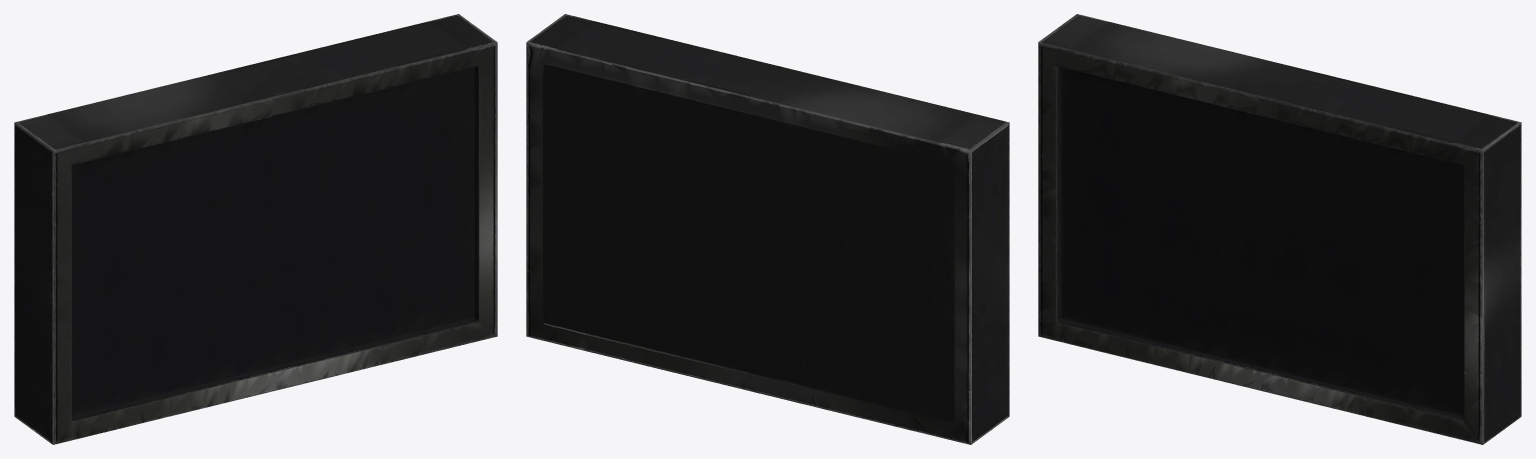
Rendered from obsidianscreen.glb.
3 renders of one model, left to right at view 1: azimuth 30°, elevation 25°; view 2: azimuth 150°, elevation 25°; view 3: azimuth 330°, elevation 25°, orthographic.
Size of the model in its own units: 1.9 by 1.2 by 0.2885.
Materials: 1 (1 with a texture image).
